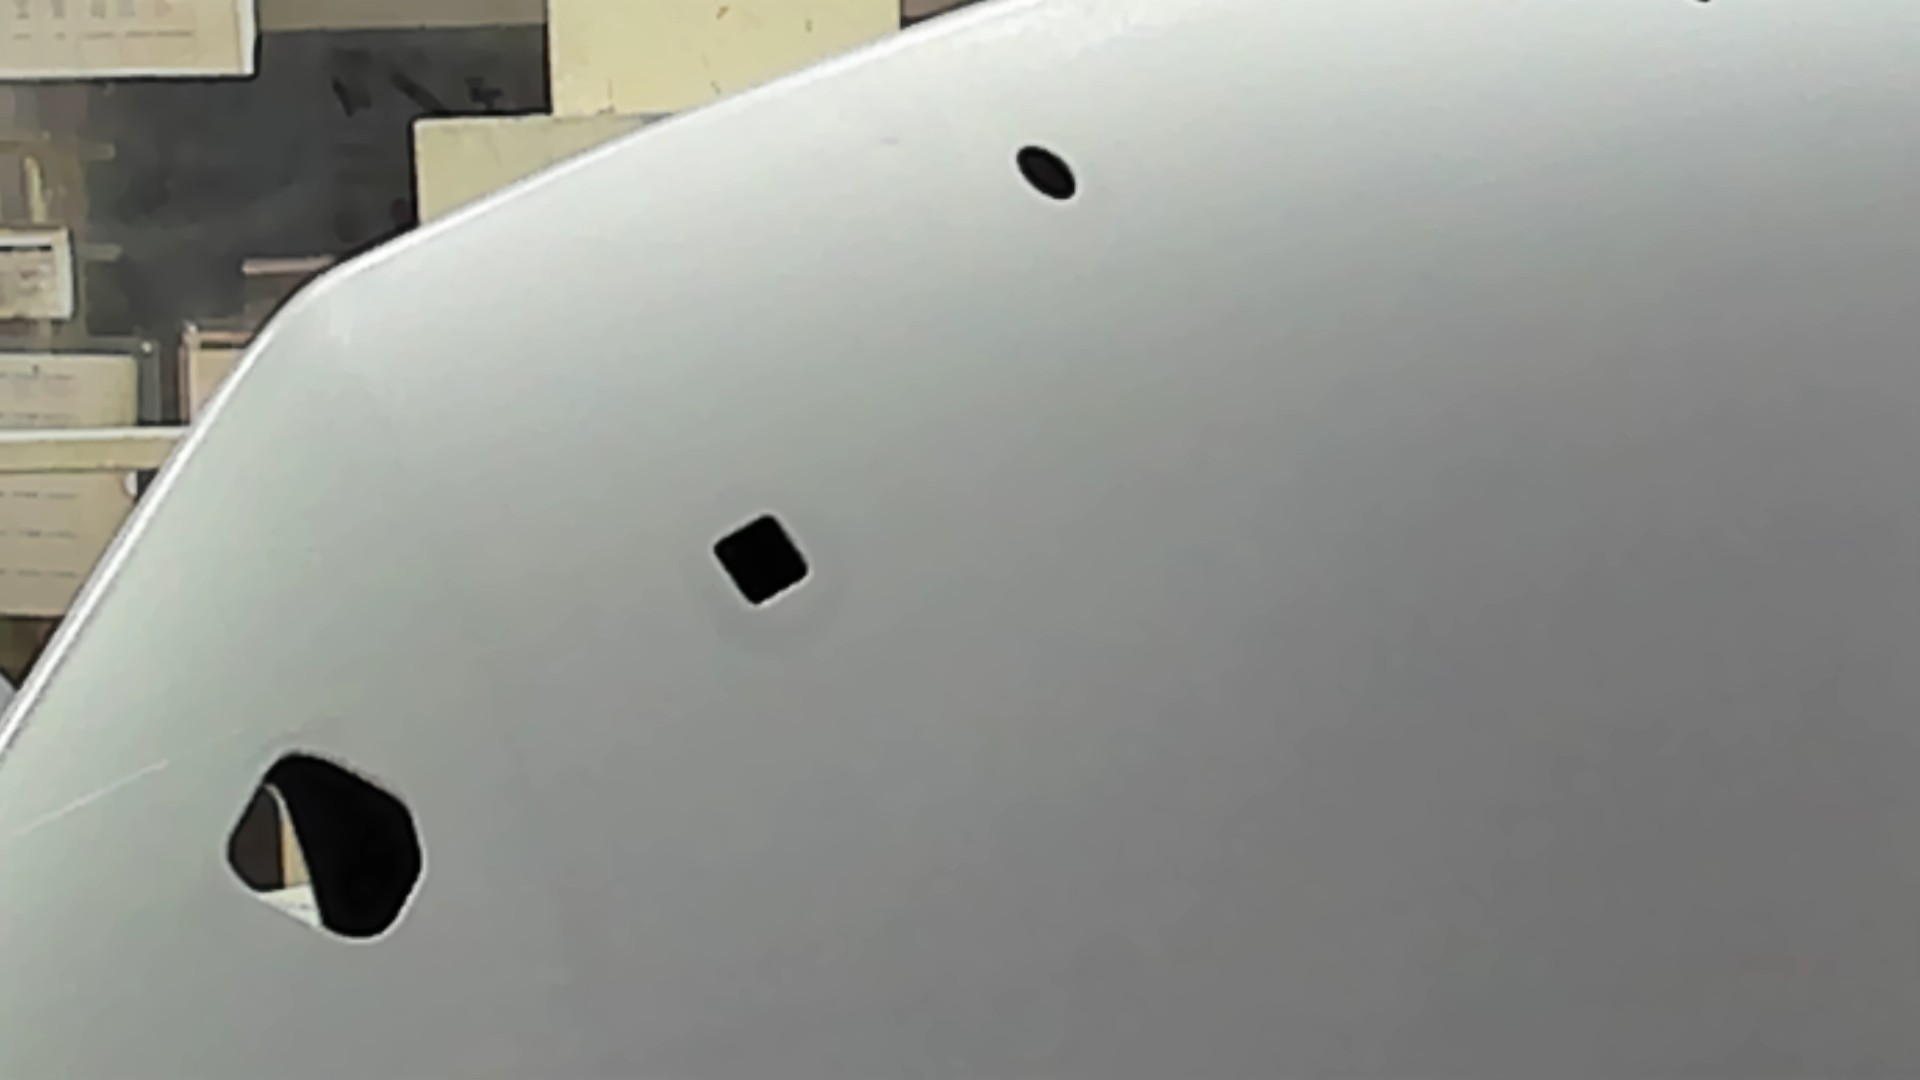chico: (1013, 141, 1083, 204)
grande: (218, 736, 431, 953)
mediano: (703, 502, 819, 621)
